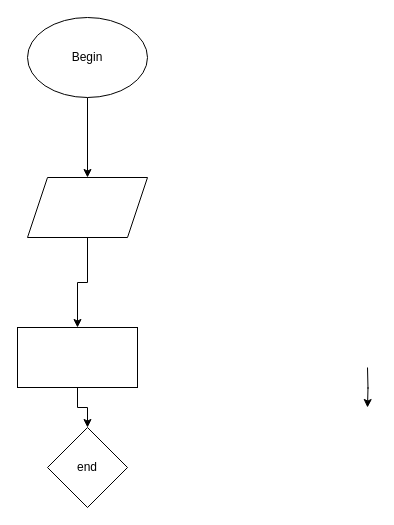
Some shapes in this 394 by 525 pixel diagram are drawn without their labels. Each missing label, with the box of its shape:
tien: (26, 176, 148, 238)
tien viet = tien * 26: (16, 326, 138, 388)
